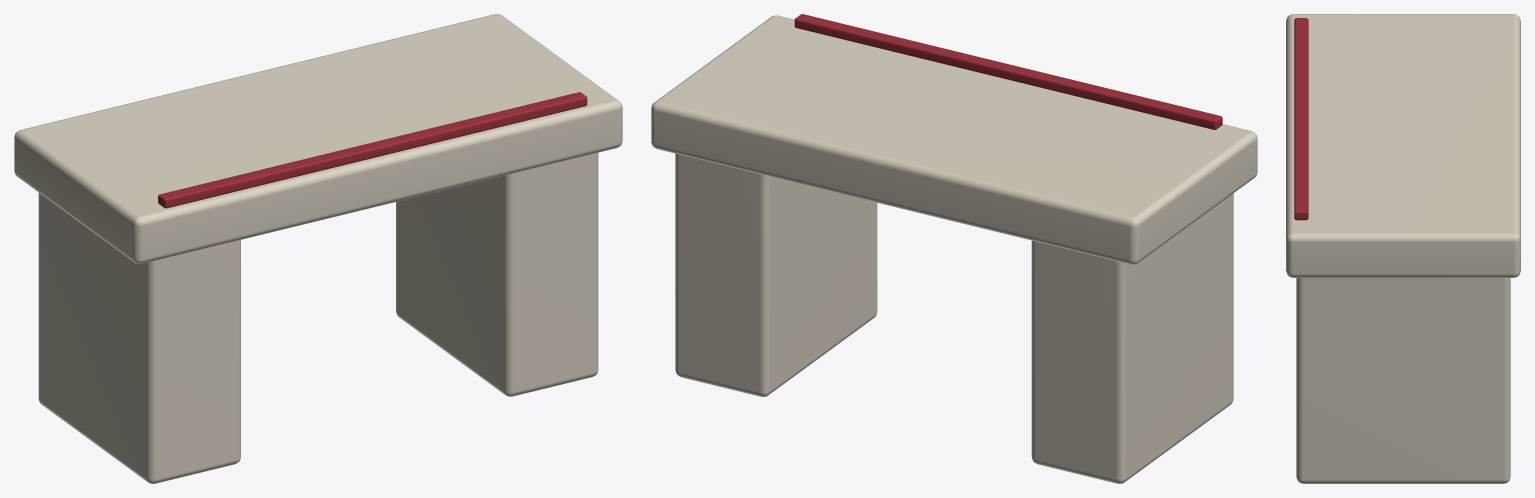
File: VSV-009.glb
3 renders of one model, left to right at view 1: azimuth 30°, elevation 25°; view 2: azimuth 150°, elevation 25°; view 3: azimuth 270°, elevation 25°, orthographic. The views are drawn at different scales.
Parts seen in each view (by area): view 1: VSV-009_bridge__bridge deck, VSV-009_bridge__abutment, VSV-009_bridge__abutment.001, VSV-009_bridge__spine; view 2: VSV-009_bridge__bridge deck, VSV-009_bridge__abutment, VSV-009_bridge__abutment.001, VSV-009_bridge__spine; view 3: VSV-009_bridge__bridge deck, VSV-009_bridge__abutment.001, VSV-009_bridge__spine.
Part boxes in pixels (x1,y1,x2,y2): VSV-009_bridge__bridge deck: [14, 14, 622, 263]; VSV-009_bridge__abutment: [38, 193, 240, 483]; VSV-009_bridge__abutment.001: [396, 152, 598, 396]; VSV-009_bridge__spine: [158, 92, 587, 208]; VSV-009_bridge__bridge deck: [651, 15, 1257, 264]; VSV-009_bridge__abutment: [1031, 193, 1233, 483]; VSV-009_bridge__abutment.001: [675, 153, 877, 396]; VSV-009_bridge__spine: [794, 14, 1222, 129]; VSV-009_bridge__bridge deck: [1286, 14, 1520, 277]; VSV-009_bridge__abutment.001: [1296, 278, 1510, 483]; VSV-009_bridge__spine: [1294, 18, 1308, 220].
Size of the model in its own units: 2.6 by 1.45 by 1.15.
